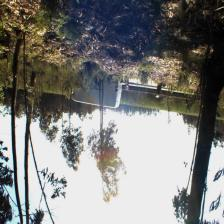trunktrack_idkeyframe: (190, 79, 223, 195), (11, 58, 19, 164), (25, 128, 30, 206)
